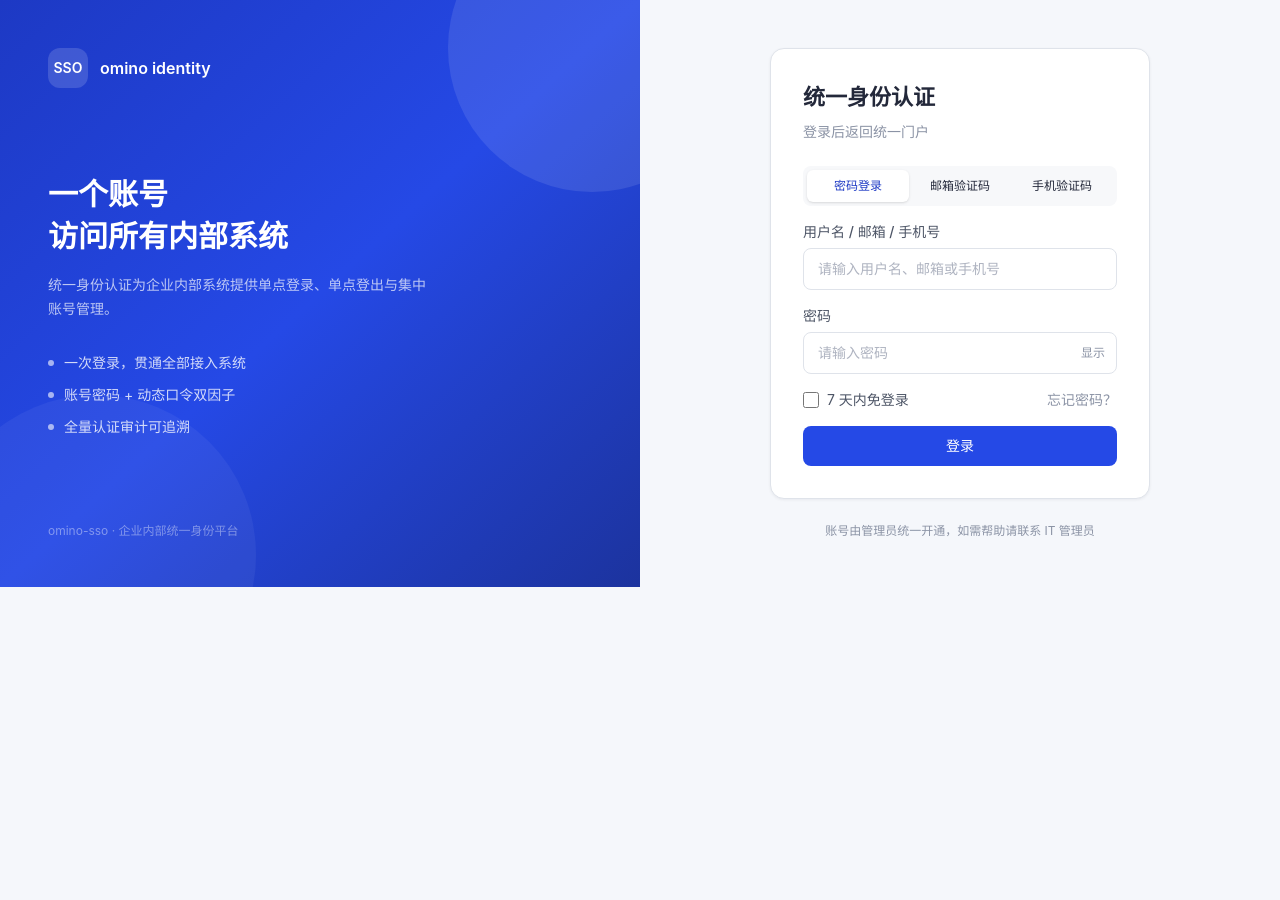
Login 登录方式切换 › 图形验证码失效时提示并换一张
The image size is (1280, 900).
Click the button "邮箱验证码": x=960, y=186 top-left (909, 170), bottom-right (1011, 202)
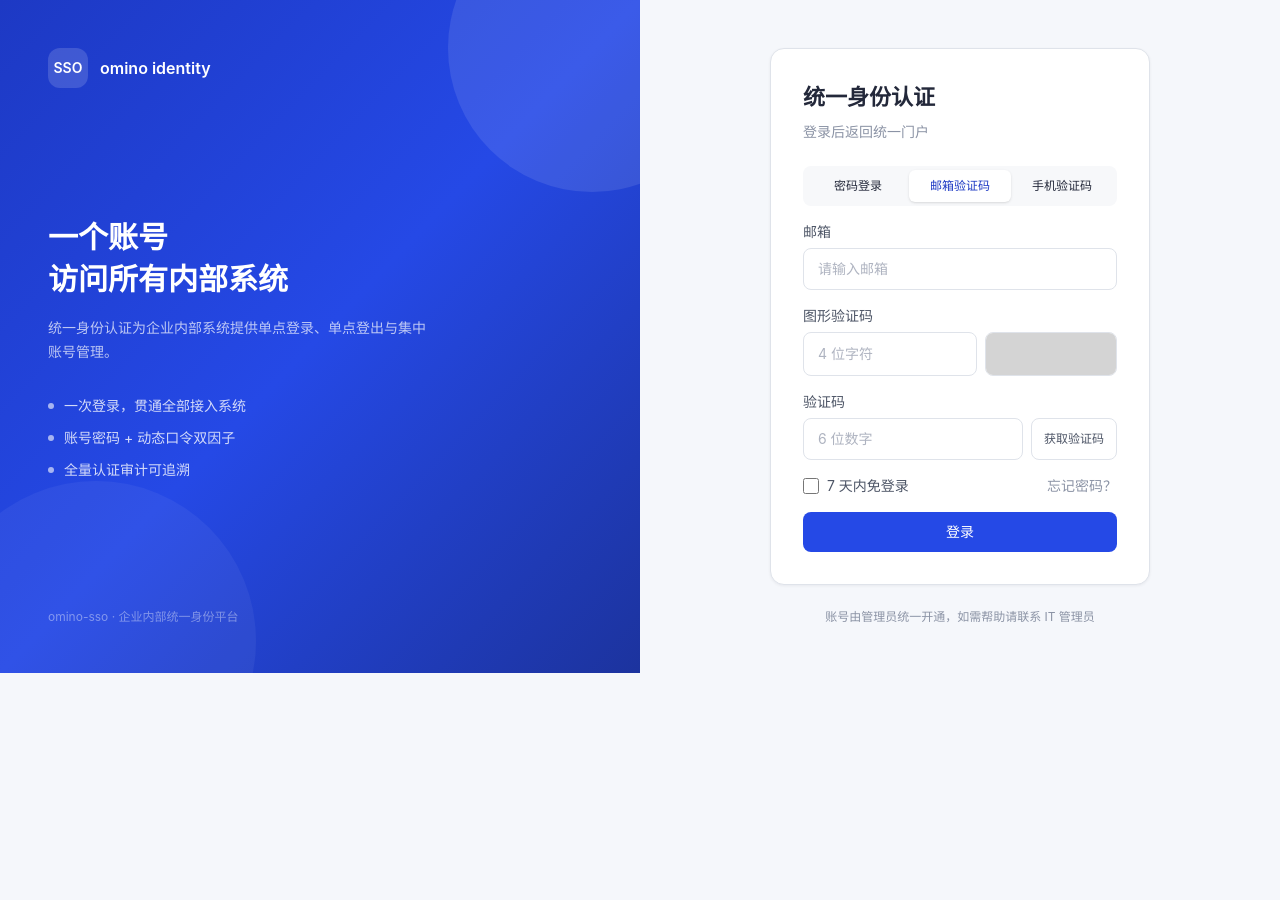
In the field with id "username": x=960, y=269 top-left (803, 248), bottom-right (1117, 290), type "alice@example.com"
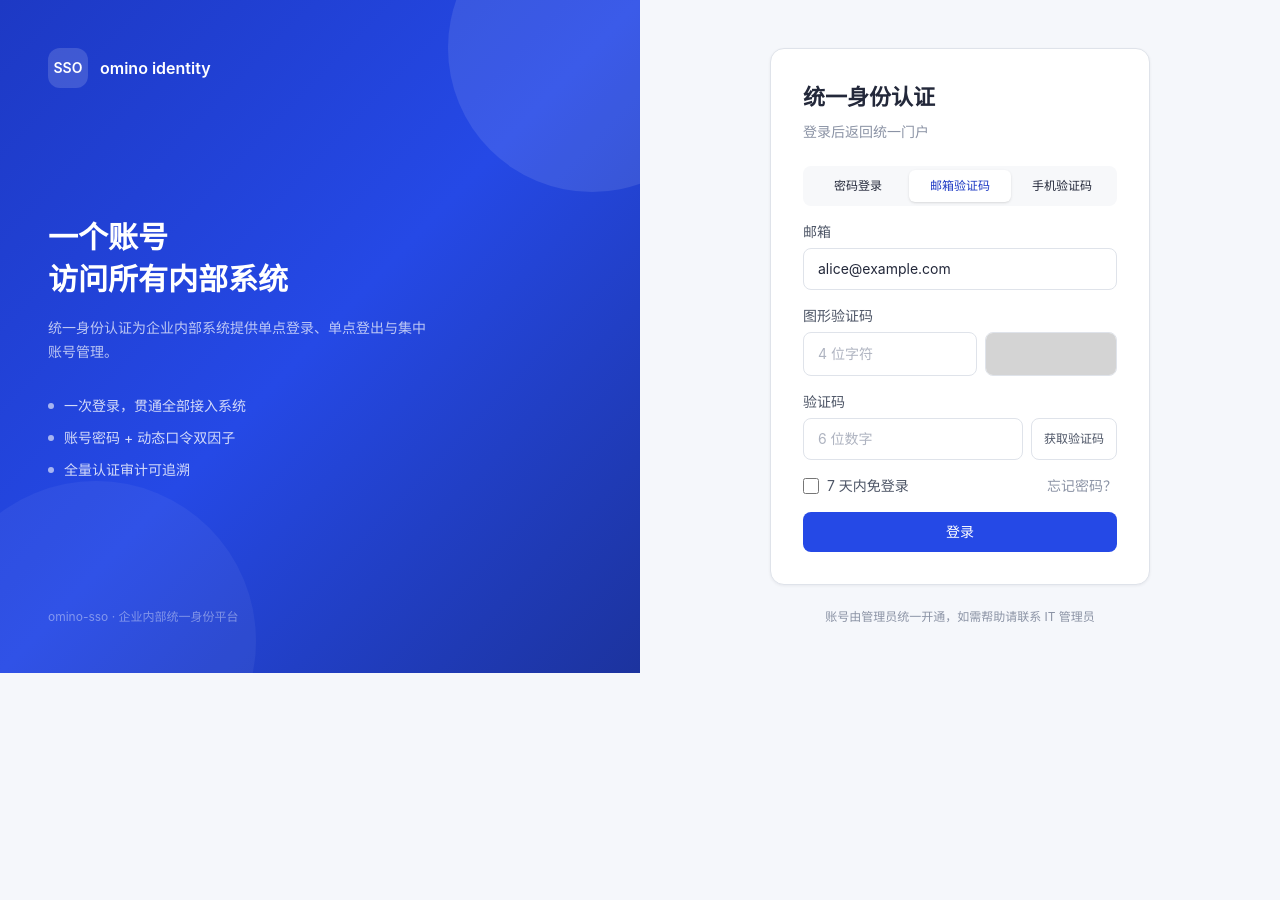
In the field with id "login-captcha": x=890, y=354 top-left (803, 332), bottom-right (977, 376), type "zzzz"
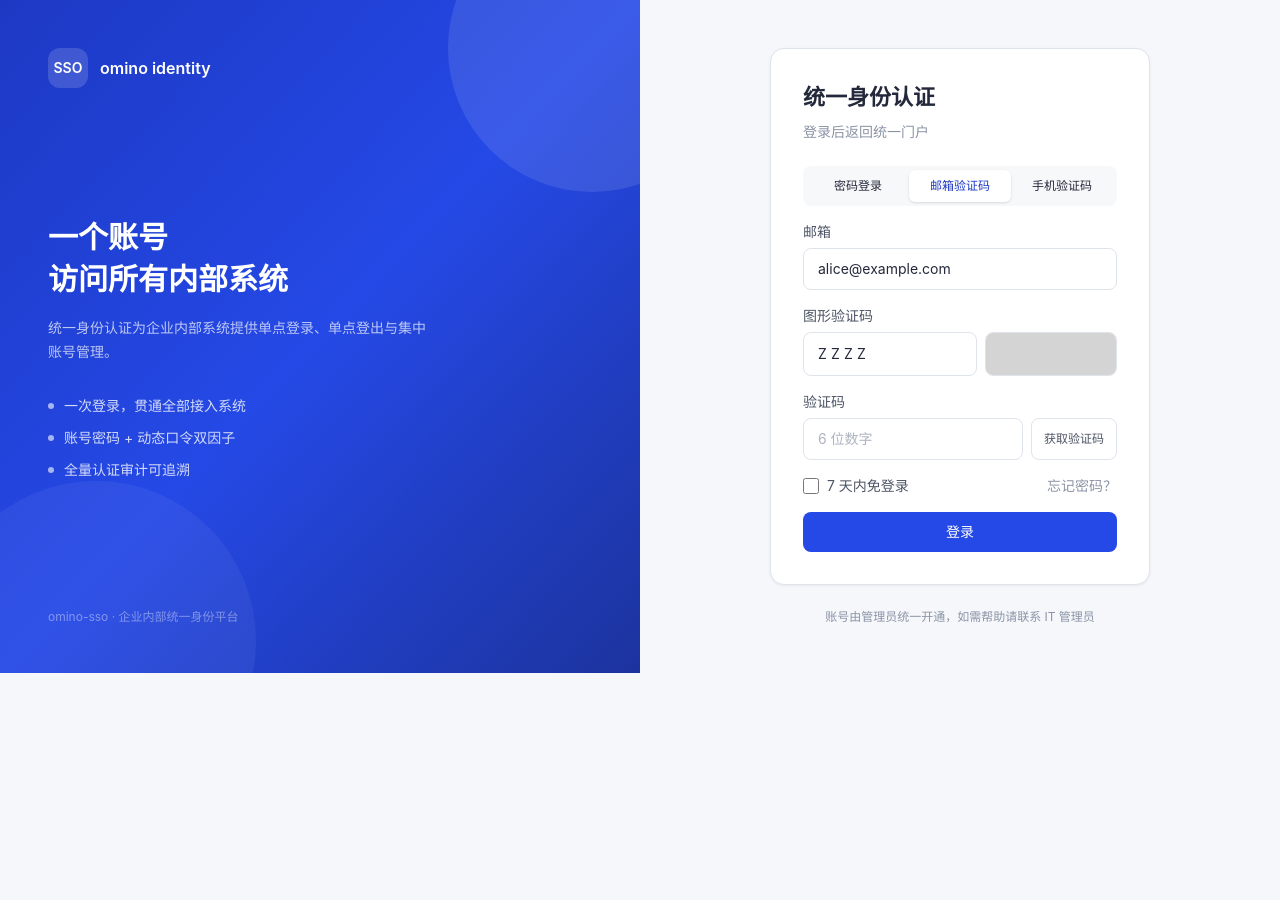
Click the button "获取验证码": x=1074, y=439 top-left (1031, 418), bottom-right (1117, 460)
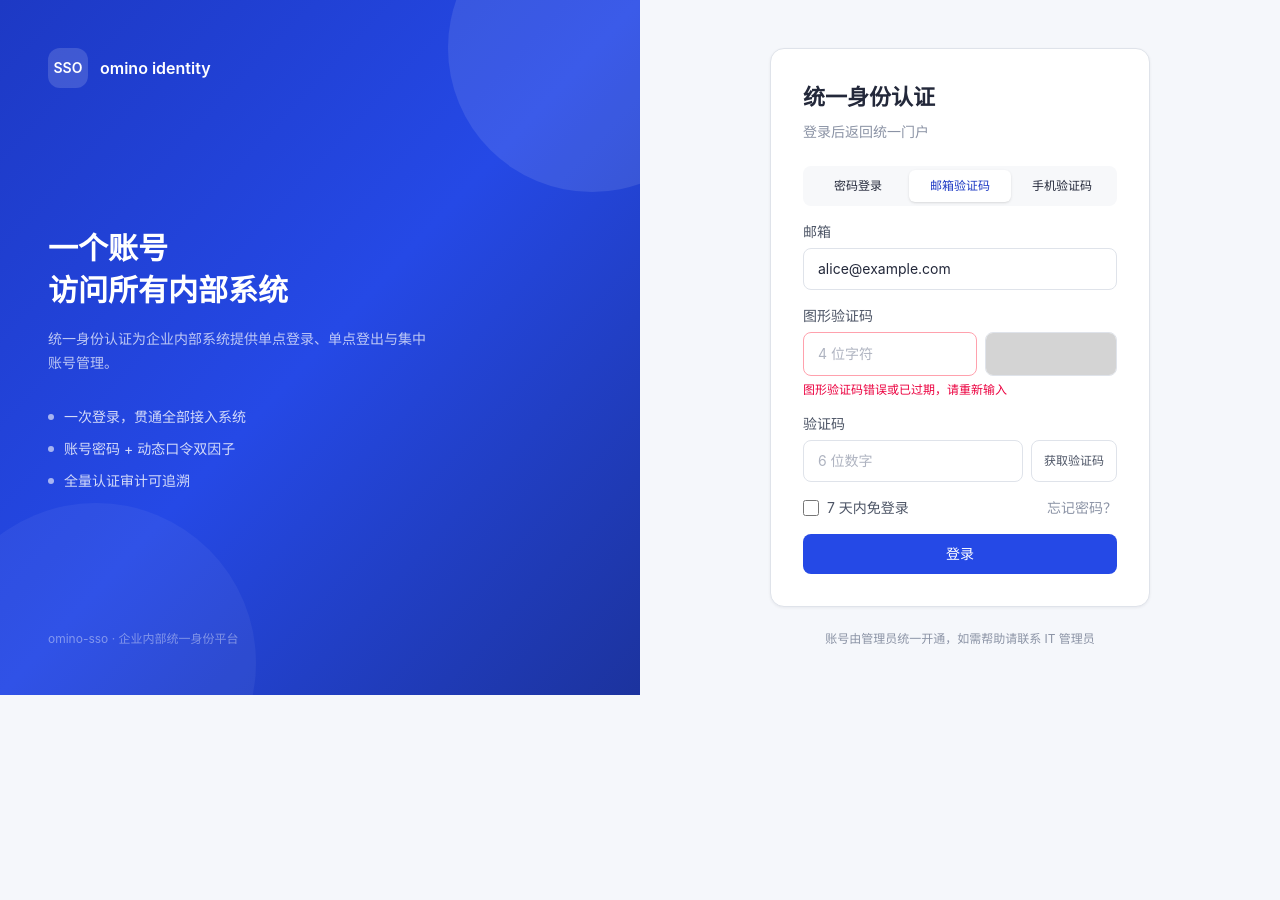
Expected: the text "图形验证码错误或已过期" is shown, top-left (803, 382), bottom-right (1007, 397)
